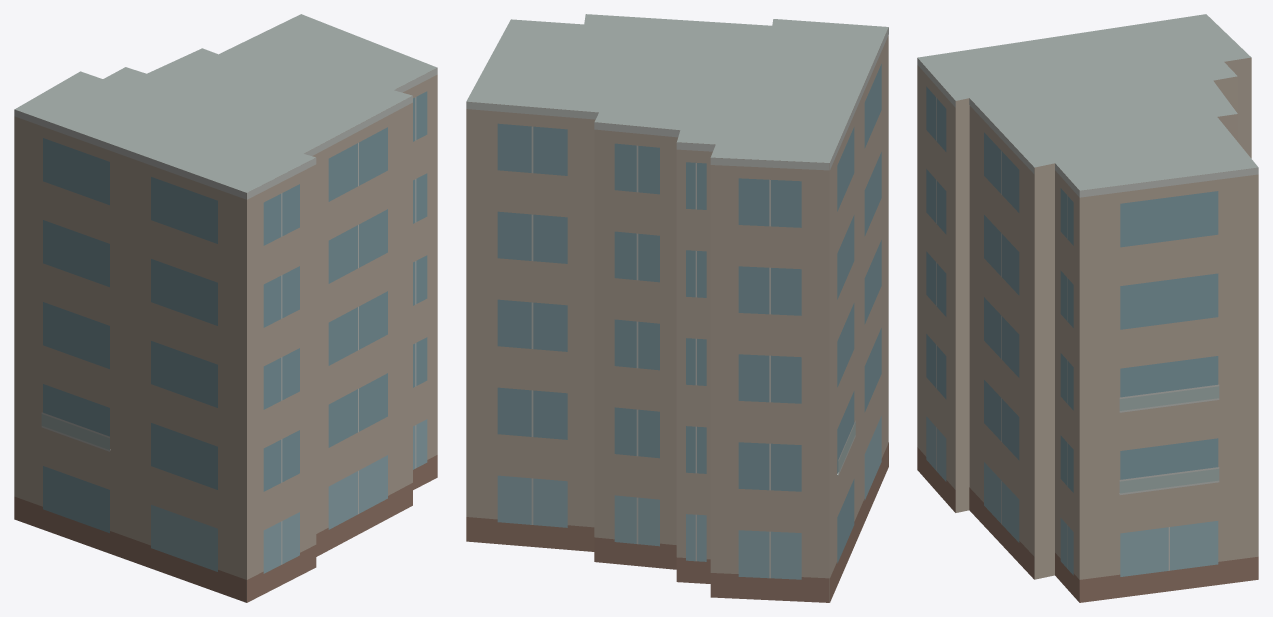
The model's file is survey-upis-32656923.glb.
The picture shows the model from 3 angles, left to right: view 1: azimuth 30°, elevation 25°; view 2: azimuth 150°, elevation 25°; view 3: azimuth 270°, elevation 25°; orthographic projection. The views are drawn at different scales.
Parts seen in each view (by area): view 1: survey-upis-32656923.tmp; view 2: survey-upis-32656923.tmp; view 3: survey-upis-32656923.tmp.
Part boxes in pixels (left/top/right/bottom): survey-upis-32656923.tmp: left=14, top=14, right=437, bottom=602; survey-upis-32656923.tmp: left=466, top=14, right=888, bottom=602; survey-upis-32656923.tmp: left=917, top=14, right=1258, bottom=602.
Bounding box in the file's own units: 13.34 × 14.5 × 10.89.
